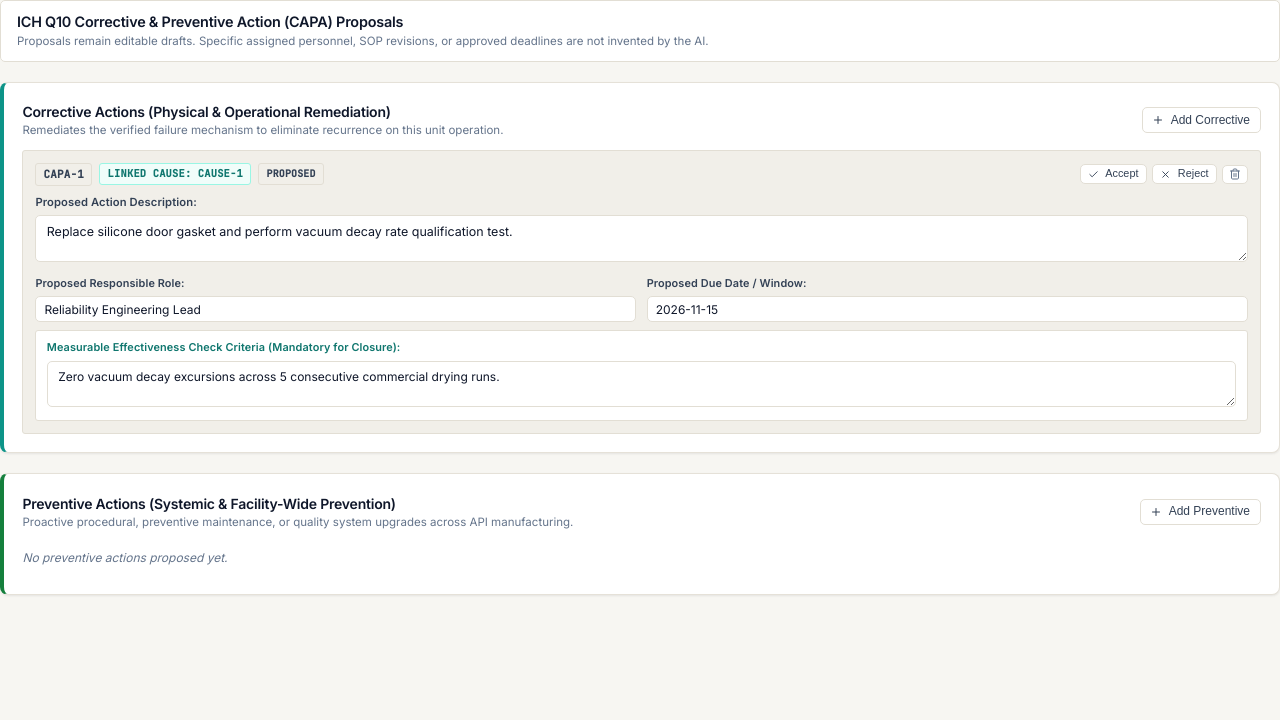
Test: TraceRoot Frontend RTL Verification Pass › C14 & E1: CAPA matrix renders suggested actions with Accept and Reject review controls
The image size is (1280, 720).
Expected: the text box "Replace silicone door gasket" below "Proposed Action Description:" is shown, [35, 215, 1248, 262]
Expected: the field showing "Reliability Engineering Lead" below "Proposed Responsible Role:" is shown, [35, 296, 636, 322]
Note: Click Accept Action
Click the button "Accept" at x=1113, y=174, box [1080, 164, 1147, 184]
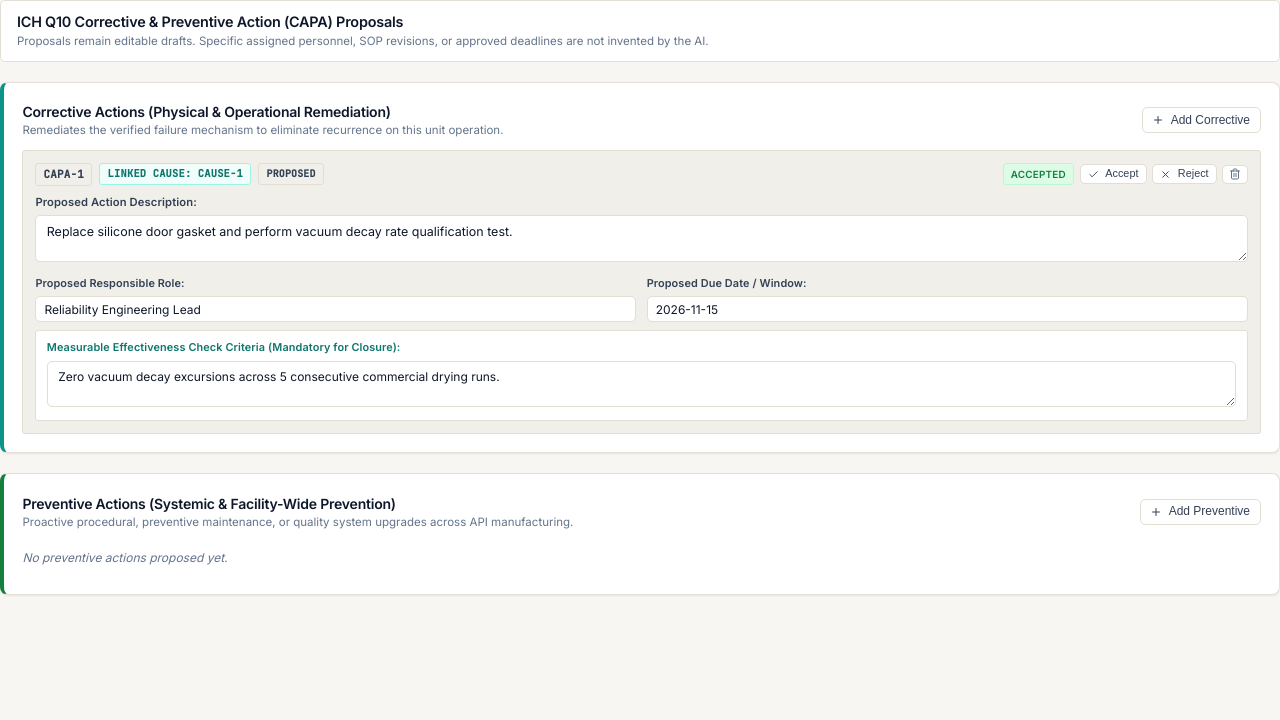
Expected: the text "ACCEPTED" is shown, [1003, 163, 1074, 185]
